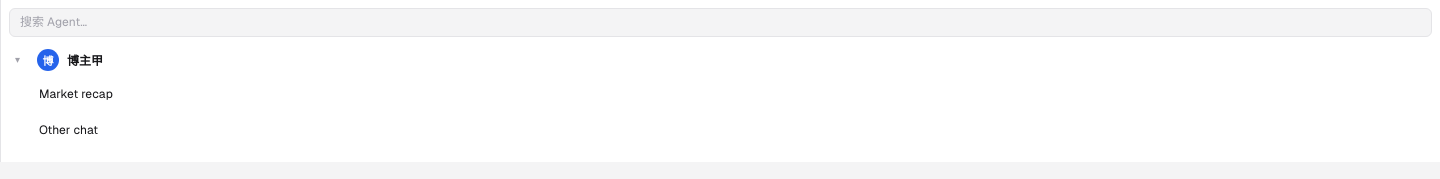
AgentHistorySidebar › filters threads by search
The image size is (1440, 179).
Check: the text "Market recap" is shown, box x1=39 y1=87 x2=113 y2=101
Type "market" into the field with placeholder "搜索 Agent…".
click(720, 22); type("market")  # box x1=9 y1=8 x2=1432 y2=37
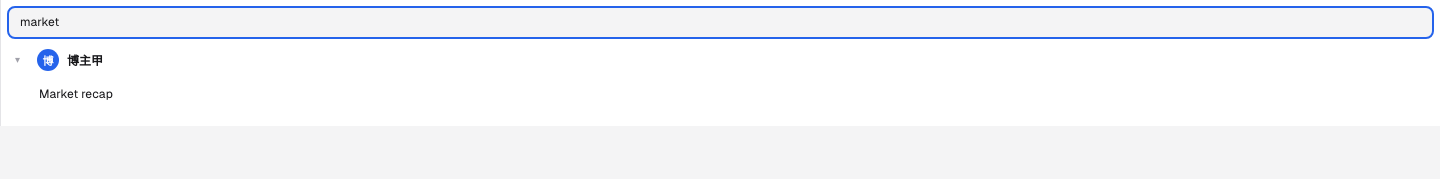
Check: the button "Other chat" is gone
